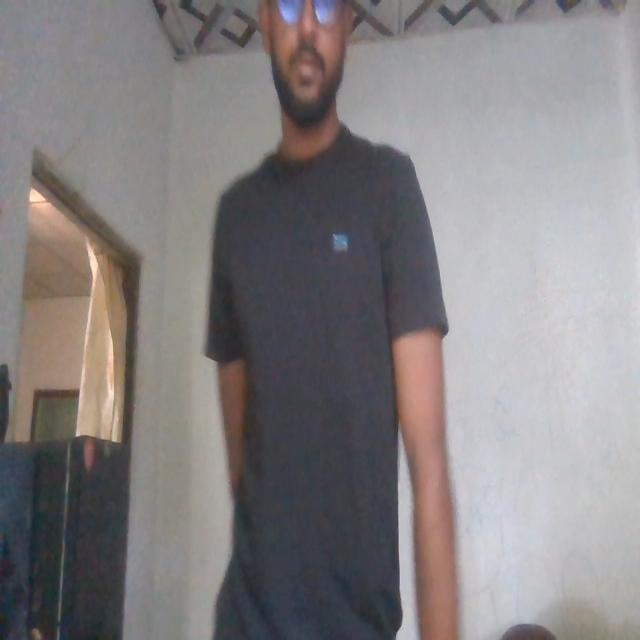Person: (207, 0, 467, 640)
